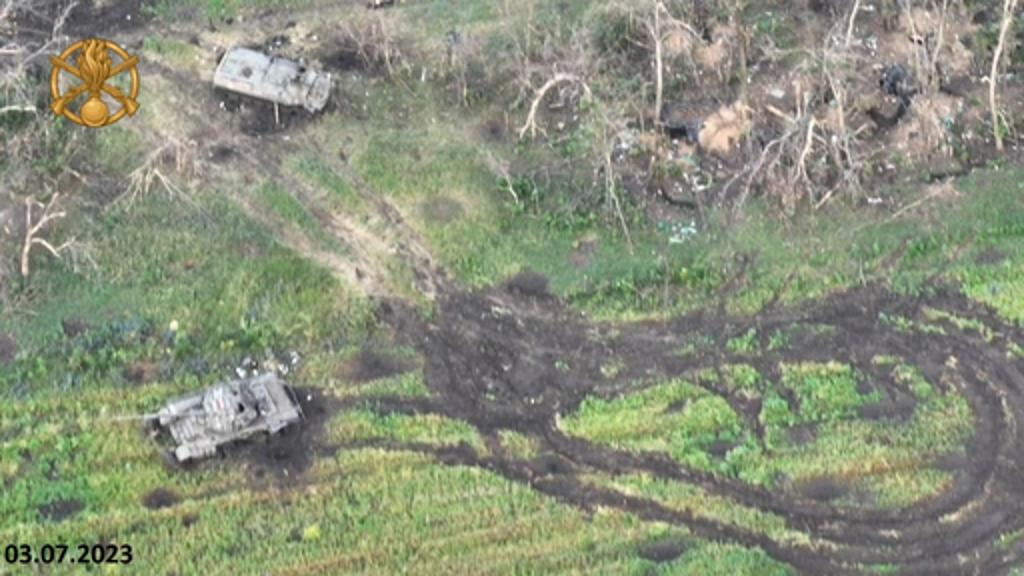APC-IFV: (210, 38, 340, 124)
TANK: (102, 362, 310, 476)
